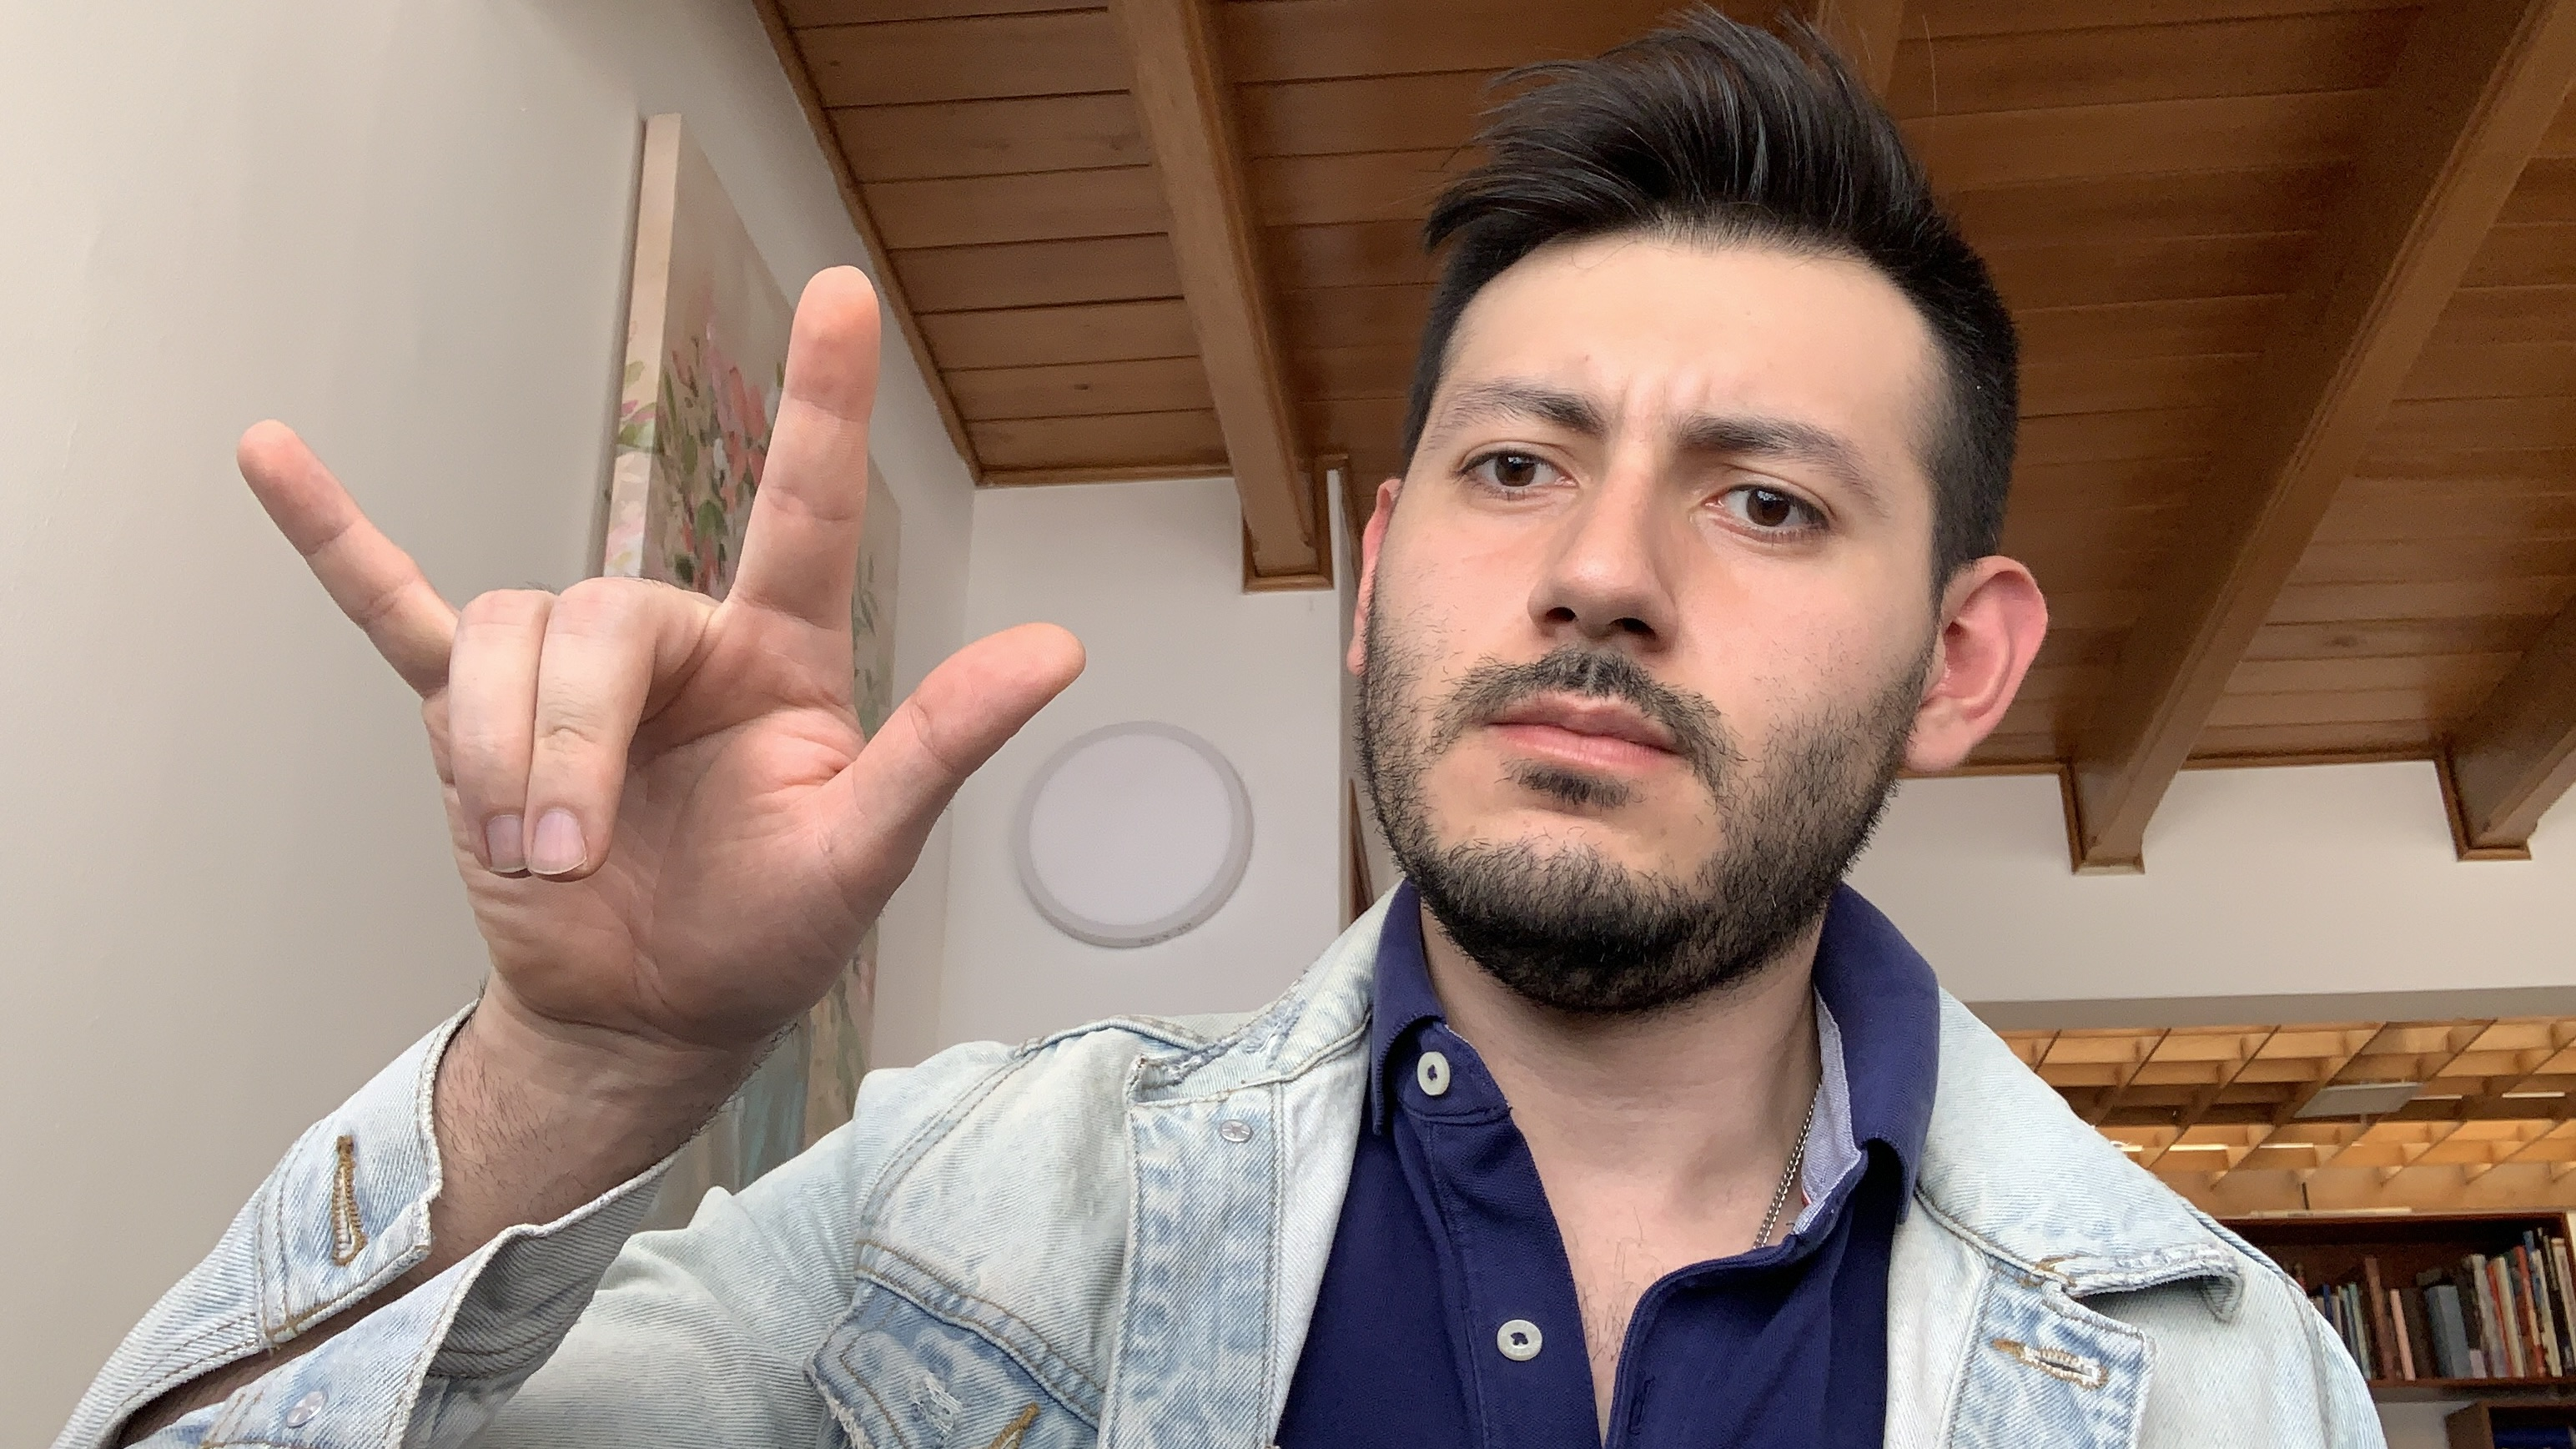I Love You: (230, 253, 1100, 1063)
